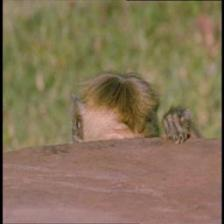monkey: (58, 58, 169, 147)
